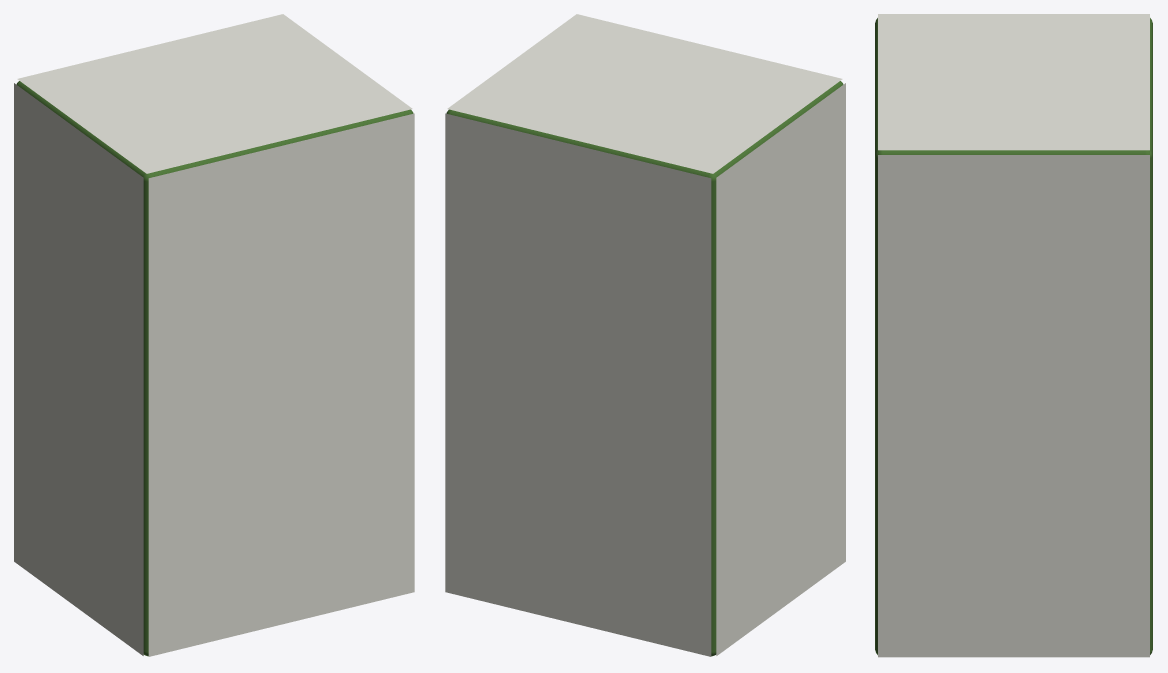
File: tea_box.glb
The picture shows the model from 3 angles, left to right: view 1: azimuth 30°, elevation 25°; view 2: azimuth 150°, elevation 25°; view 3: azimuth 270°, elevation 25°; orthographic projection. The views are drawn at different scales.
Visible parts, largest first — view 1: LabelFront, LabelLeft, LabelTop, Carton; view 2: LabelBack, LabelLeft, LabelTop, Carton; view 3: LabelRight, LabelTop, Carton.
Boxes of the visible parts, left/top/right/bottom form: LabelFront: left=148, top=113, right=414, bottom=656; LabelLeft: left=14, top=83, right=143, bottom=655; LabelTop: left=17, top=14, right=412, bottom=173; Carton: left=16, top=81, right=413, bottom=656; LabelBack: left=445, top=113, right=711, bottom=656; LabelLeft: left=716, top=83, right=845, bottom=655; LabelTop: left=447, top=14, right=842, bottom=173; Carton: left=446, top=81, right=843, bottom=656; LabelRight: left=878, top=155, right=1149, bottom=657; LabelTop: left=878, top=14, right=1149, bottom=150; Carton: left=875, top=18, right=1152, bottom=654.
Size of the model in its own units: 0.854 by 1.45 by 0.724.
